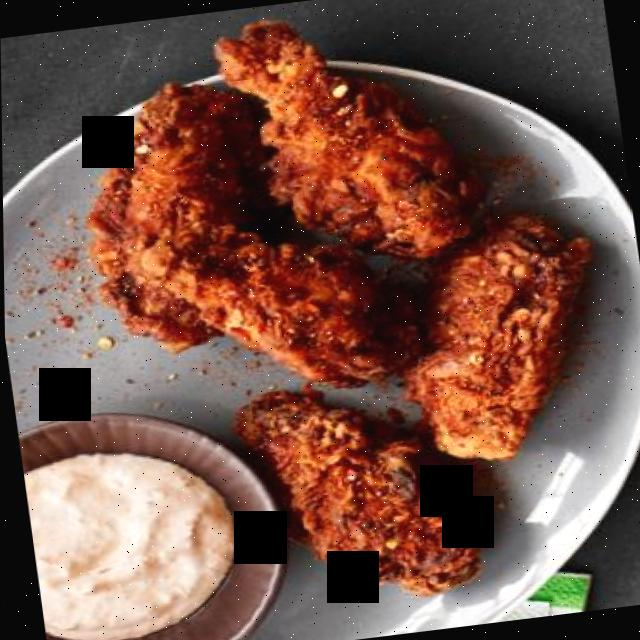Frango: (51, 0, 634, 636)
